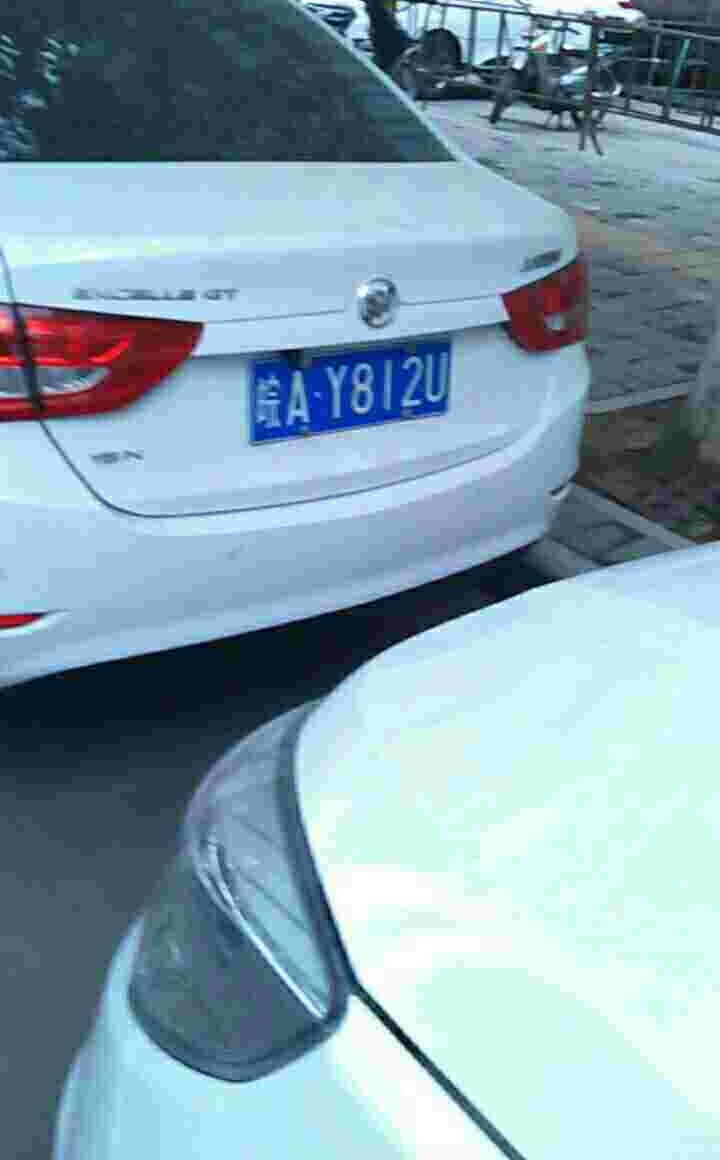license_plate: (239, 343, 460, 448)
